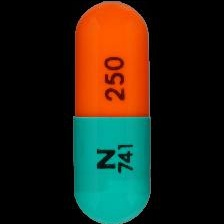68151-2986: (0, 0, 224, 224)
